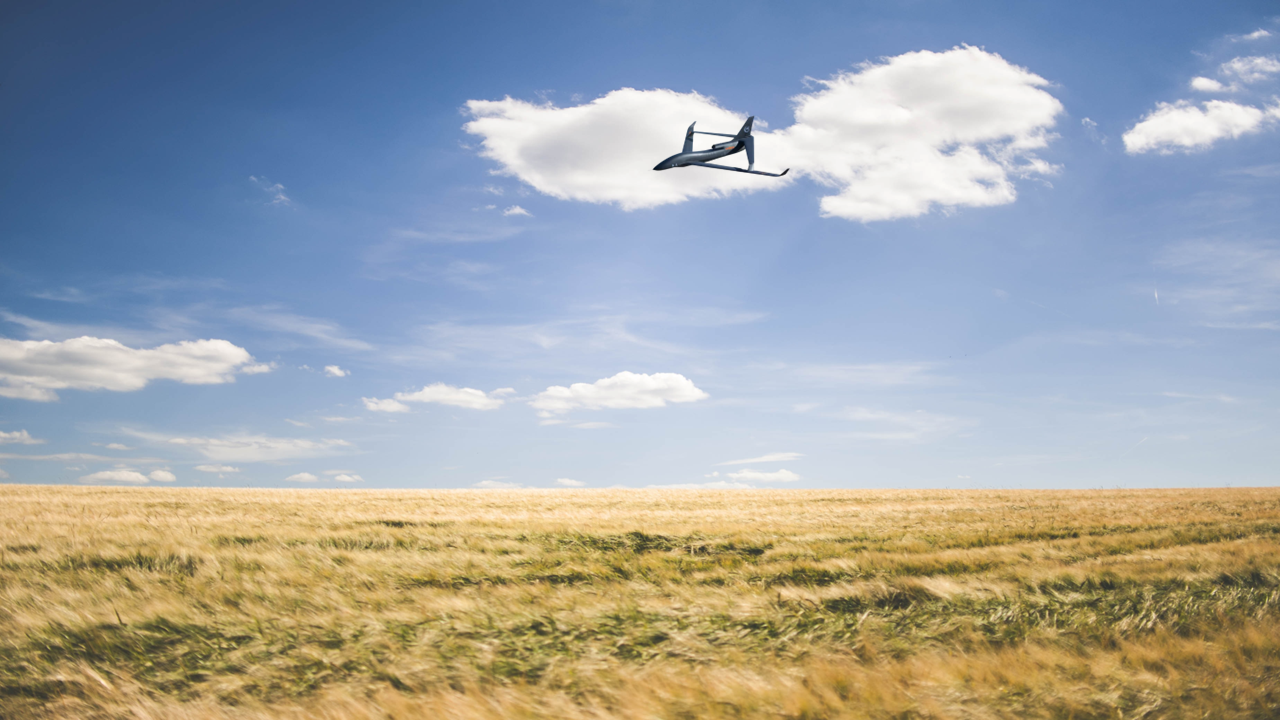military drone: (652, 115, 789, 177)
